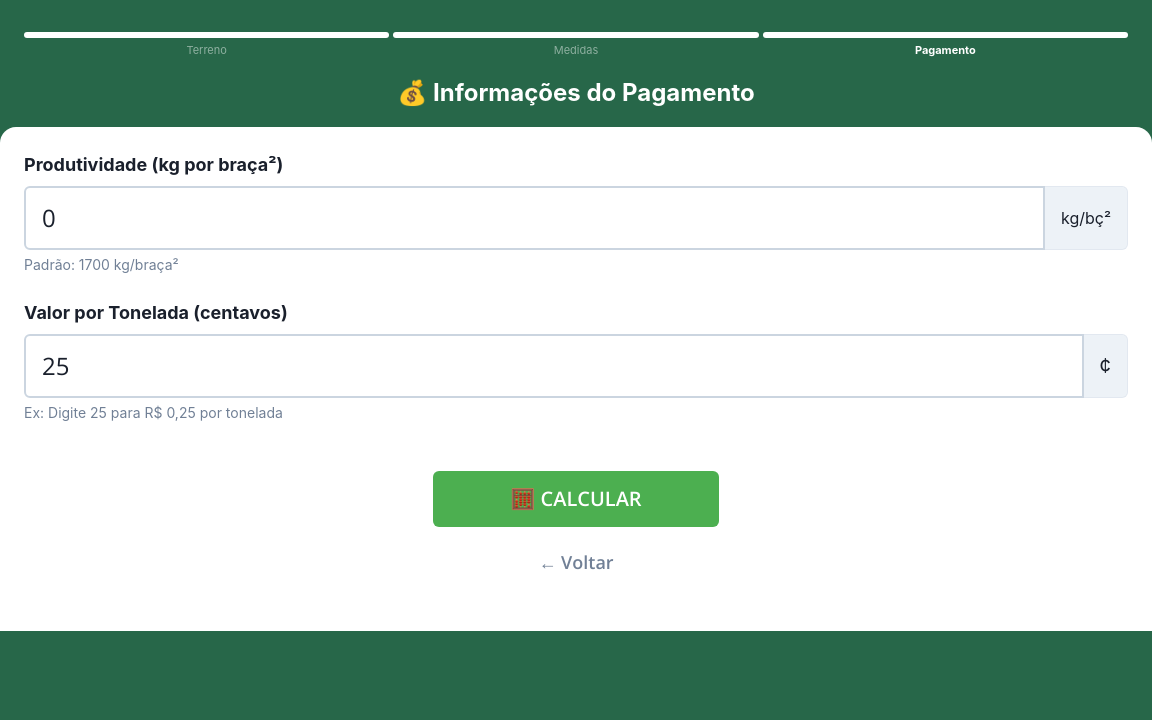
Scenario: PaymentStep › shows error when produtividade is zero and CALCULAR clicked
Click the button "🧮 CALCULAR" at (576, 498), box [433,470,719,526]
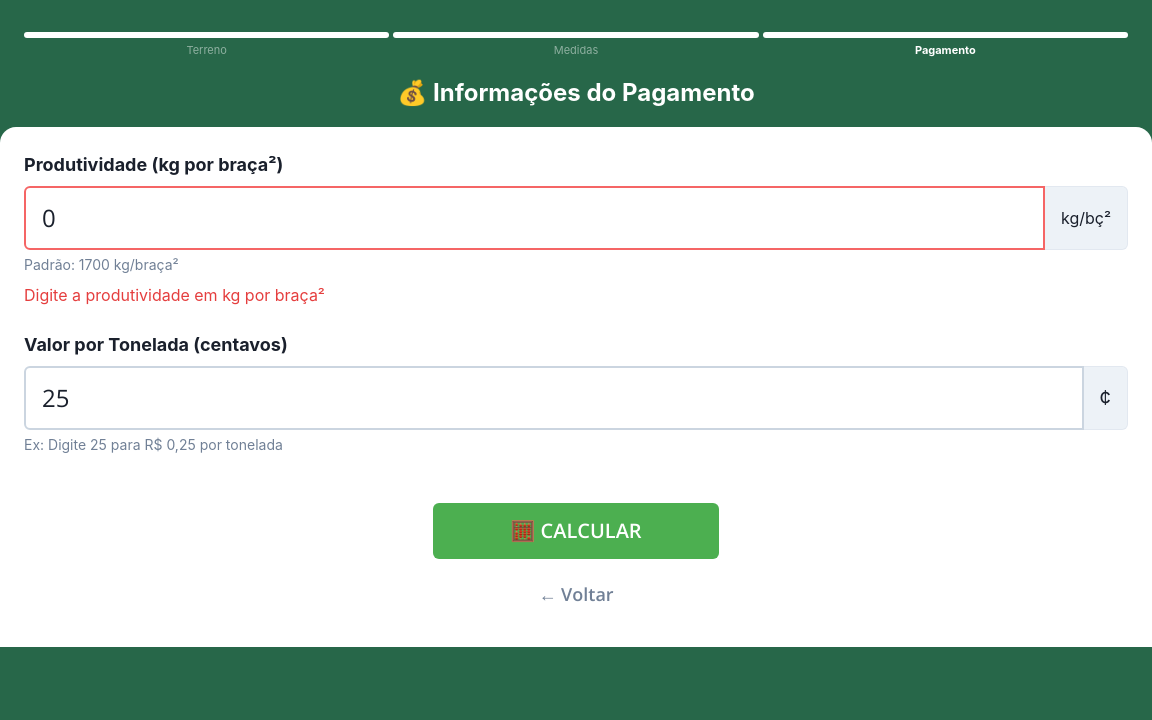
Check: the text "Digite a produtividade em kg por braça²" is shown, box [24,284,325,304]
